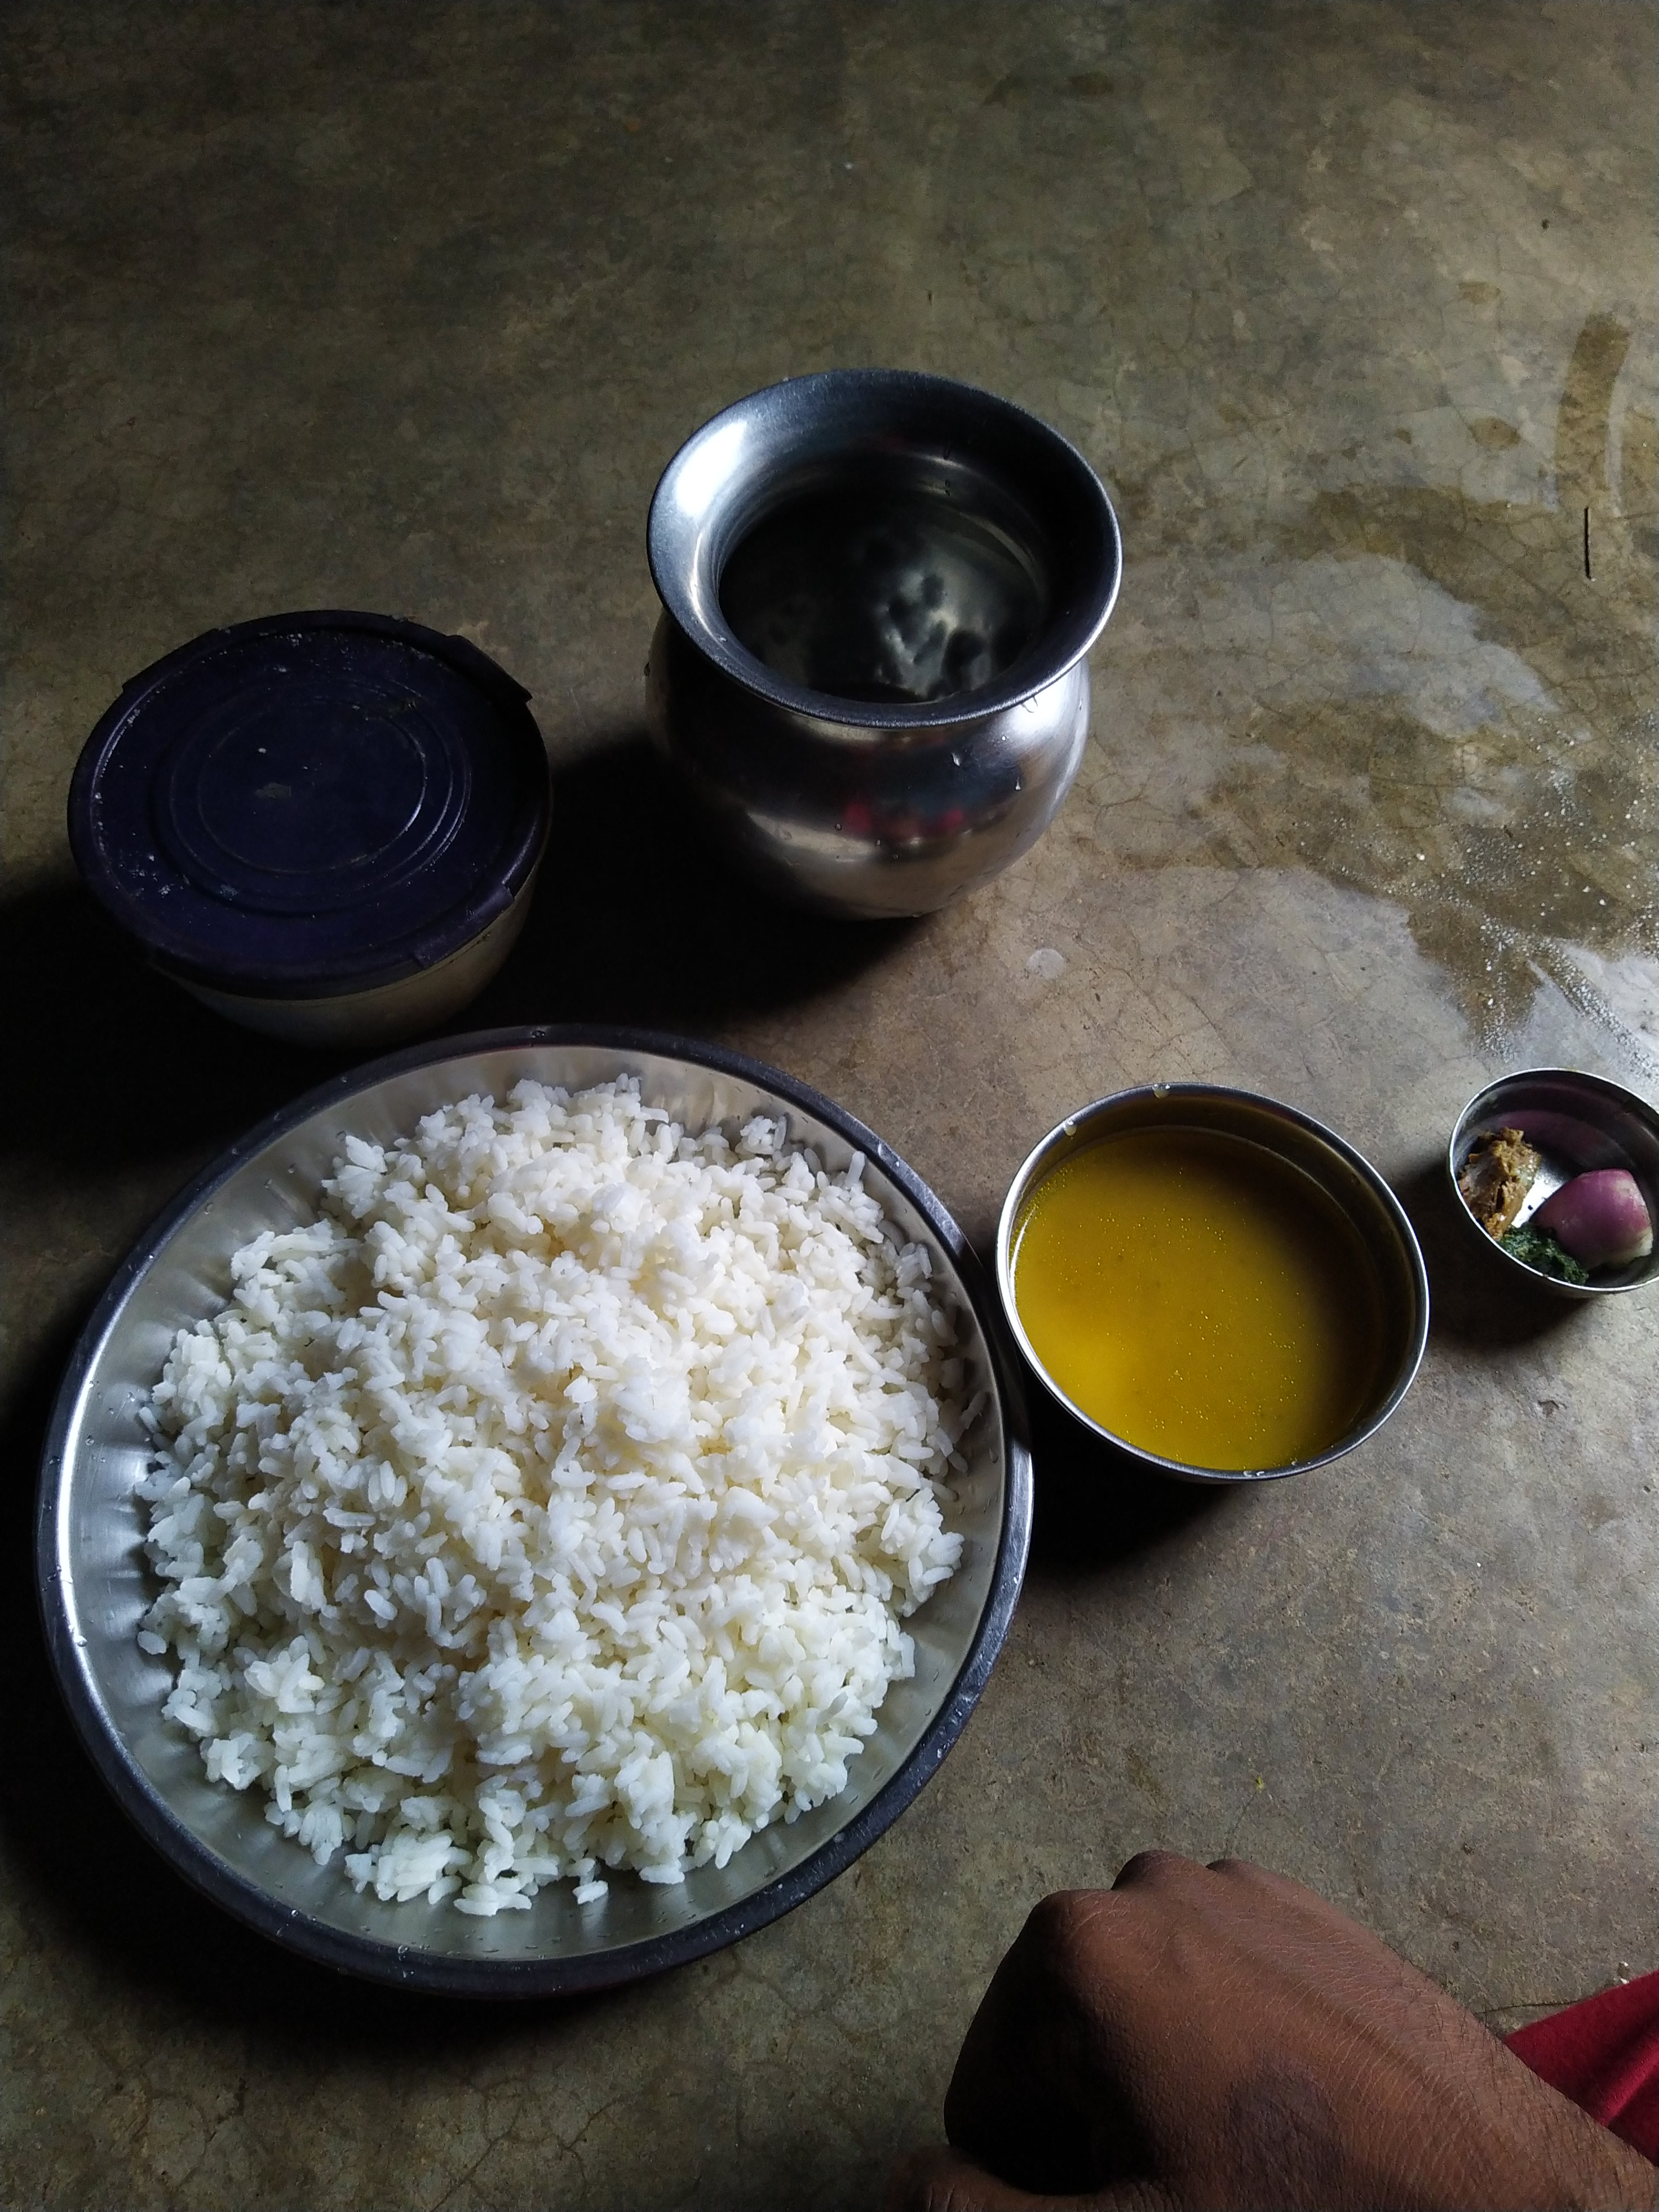food: (118, 1062, 993, 1926), (1000, 1082, 1425, 1472), (1452, 1064, 1659, 1296)
